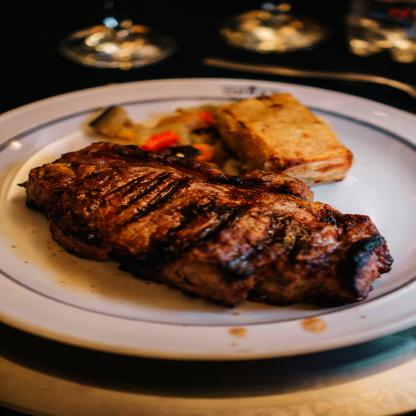Carne: (7, 139, 396, 309)
